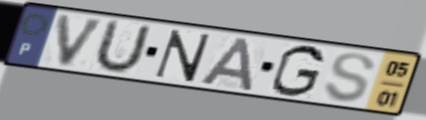A: (197, 35, 255, 93)
G: (268, 43, 327, 99)
N: (152, 27, 215, 84)
S: (321, 51, 378, 105)
U: (90, 18, 155, 76)
V: (55, 13, 109, 70)
